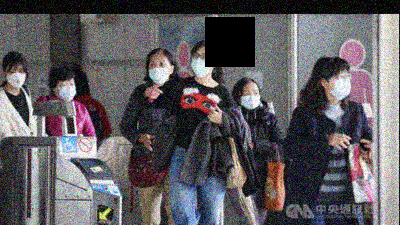with_mask: (330, 71, 353, 101), (191, 49, 214, 78), (148, 58, 171, 85), (56, 80, 78, 102), (240, 87, 261, 110), (6, 66, 26, 88)
